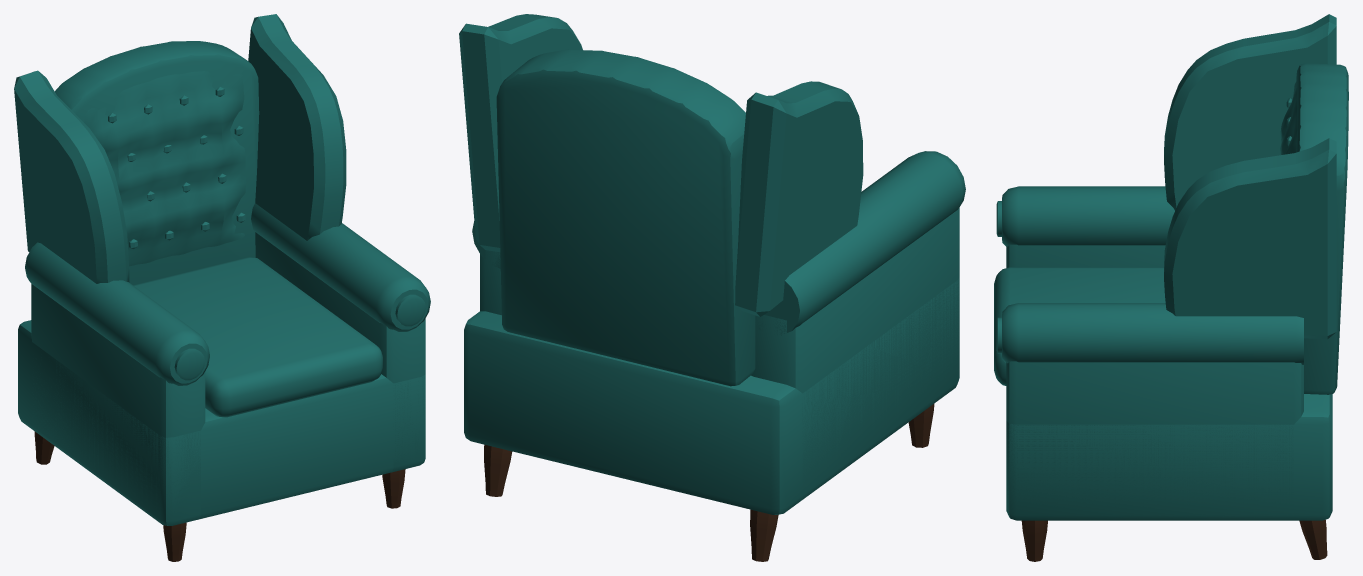
File: armchair_wingback.glb
The picture shows the model from 3 angles, left to right: view 1: azimuth 30°, elevation 25°; view 2: azimuth 150°, elevation 25°; view 3: azimuth 270°, elevation 25°; orthographic projection. The views are drawn at different scales.
Parts seen in each view (by area): view 1: armchair_wingback; view 2: armchair_wingback; view 3: armchair_wingback.
Boxes of the visible parts, <box> form: armchair_wingback: <box>14,14,430,561</box>; armchair_wingback: <box>459,14,965,561</box>; armchair_wingback: <box>994,14,1348,561</box>.
Bounding box in the file's own units: 0.836 × 1.14 × 0.8696.
